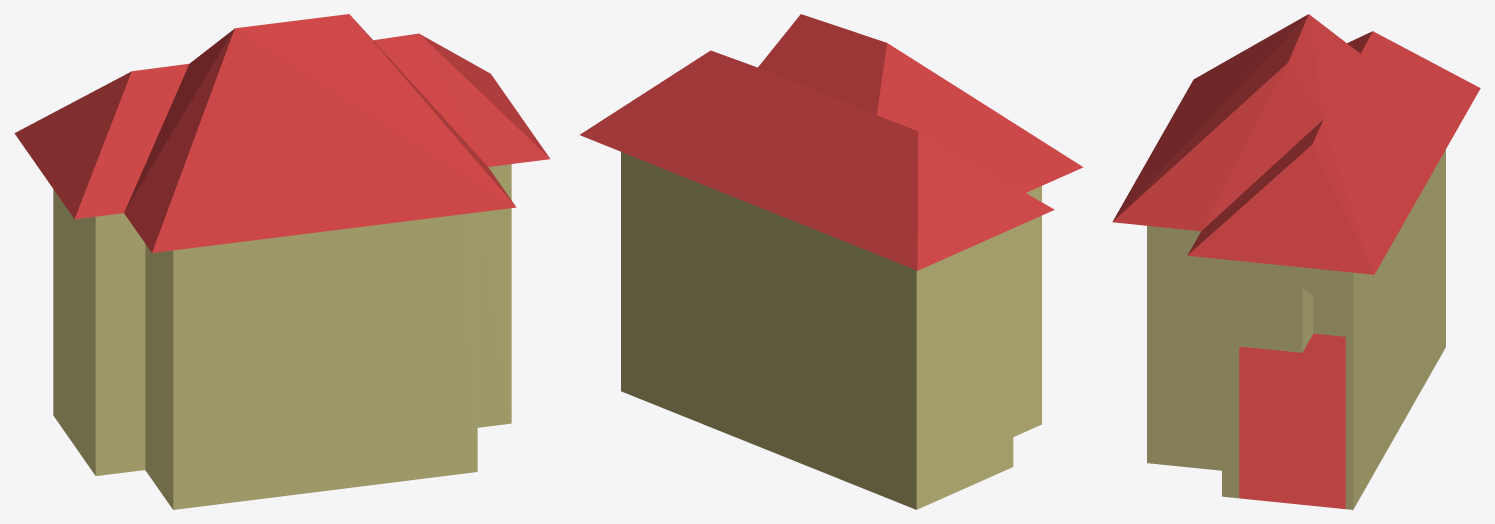
3 views of the same model, side by side, from view 1: azimuth 30°, elevation 25°; view 2: azimuth 150°, elevation 25°; view 3: azimuth 270°, elevation 25° (orthographic). The views are drawn at different scales.
Visible parts, largest first — view 1: group_5, group_3, group_4; view 2: group_5, group_3, group_4; view 3: group_5, group_3, group_6, group_4.
Part boxes in pixels (<box>): group_5: <box>53,164,511,509</box>; group_3: <box>15,14,550,252</box>; group_4: <box>14,61,549,252</box>; group_5: <box>621,152,1041,509</box>; group_3: <box>580,14,1037,270</box>; group_4: <box>580,113,1082,270</box>; group_5: <box>1147,149,1445,509</box>; group_3: <box>1112,14,1480,274</box>; group_6: <box>1239,333,1345,509</box>; group_4: <box>1113,69,1479,274</box>.
Bounding box in the file's own units: 16.95 × 12.83 × 14.62.
